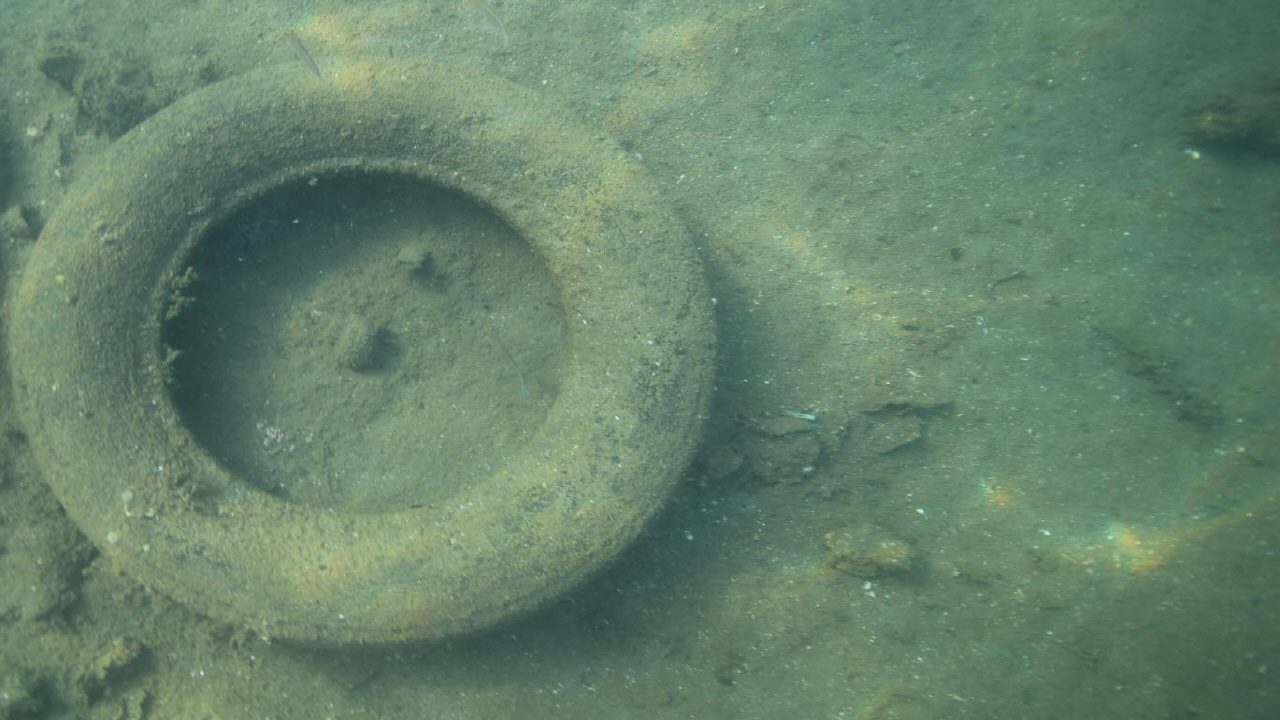tire: (6, 53, 717, 647)
